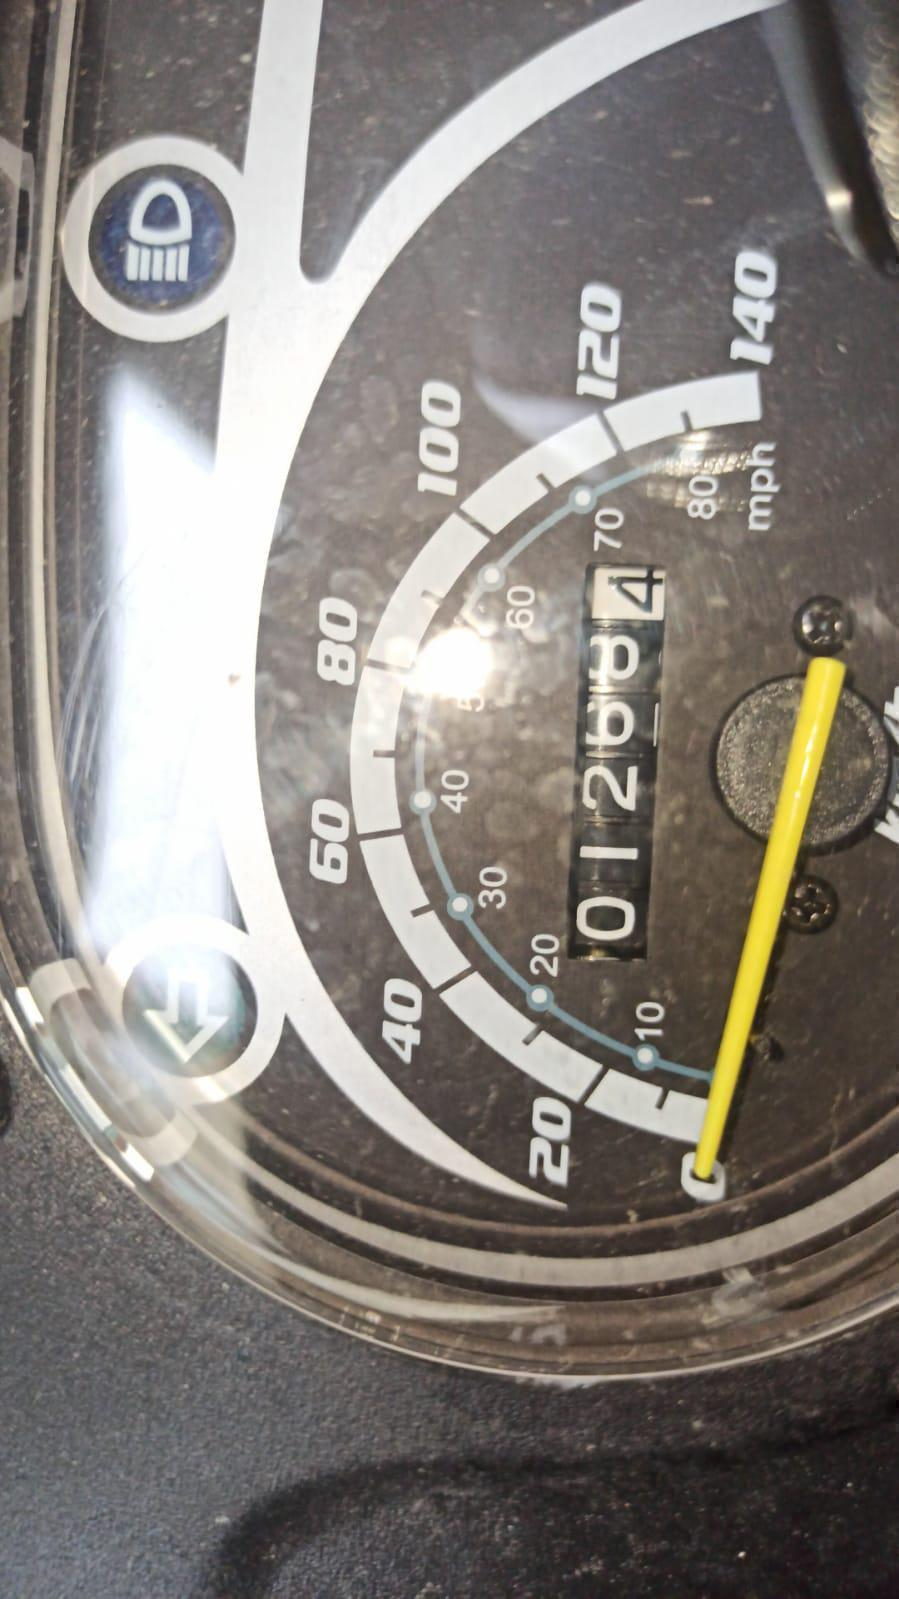0: (574, 891, 644, 949)
1: (573, 835, 650, 870)
2: (575, 760, 648, 819)
4: (604, 564, 670, 615)
6: (574, 698, 634, 748)
8: (580, 627, 650, 683)
odometer: (564, 559, 679, 982)
